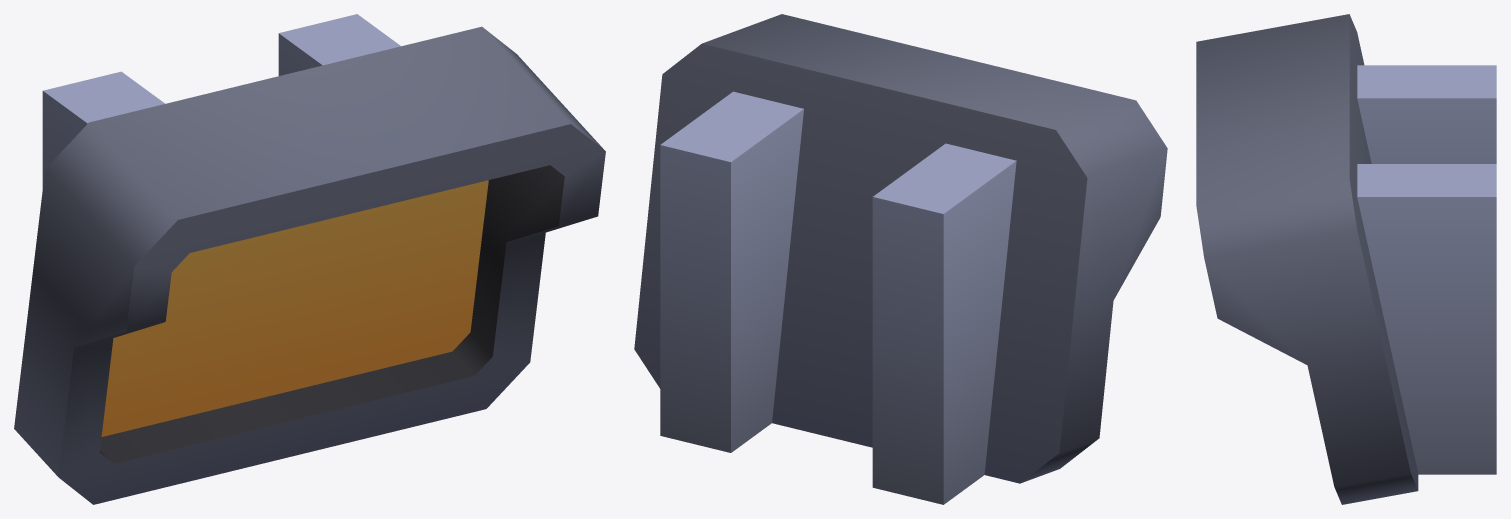
The model's file is display-wall-wide.glb.
3 renders of one model, left to right at view 1: azimuth 30°, elevation 25°; view 2: azimuth 150°, elevation 25°; view 3: azimuth 270°, elevation 25°, orthographic. The views are drawn at different scales.
Parts seen in each view (by area): view 1: display-wall-wide; view 2: display-wall-wide; view 3: display-wall-wide.
Boxes of the visible parts, x1,y1,x2,y2 form: display-wall-wide: (14,14,605,504); display-wall-wide: (634,14,1167,504); display-wall-wide: (1196,14,1496,504).
Size of the model in its own units: 0.6 by 0.4609 by 0.3844.
